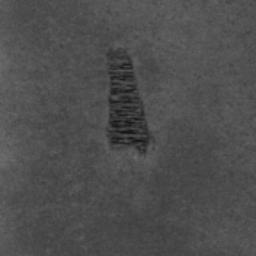Secondary rust skin: (106, 44, 150, 157)
